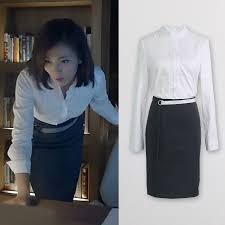F_shirt: (134, 26, 219, 149)
F_tailored skirt: (141, 91, 211, 200), (20, 108, 88, 205)
